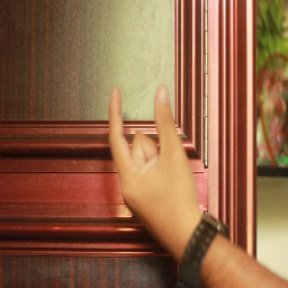U: (99, 76, 196, 225)
